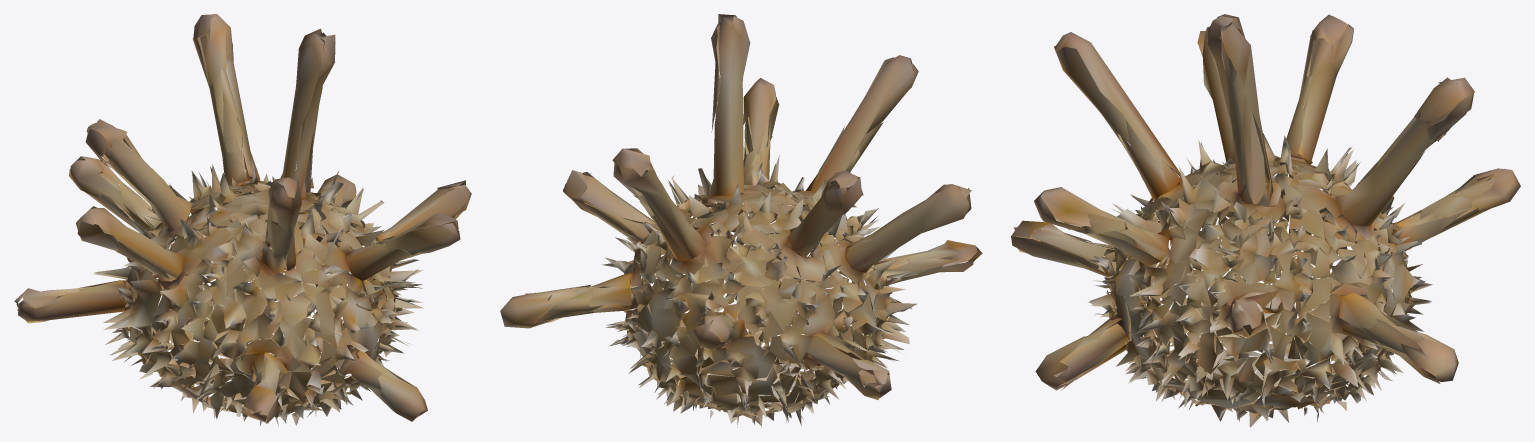
The model's file is triassic-cidaris.glb.
The picture shows the model from 3 angles, left to right: view 1: azimuth 30°, elevation 25°; view 2: azimuth 150°, elevation 25°; view 3: azimuth 270°, elevation 25°; orthographic projection. The views are drawn at different scales.
Visible parts, largest first — view 1: cidaris; view 2: cidaris; view 3: cidaris.
Boxes of the visible parts, <box> form: cidaris: <box>14,14,471,426</box>; cidaris: <box>500,14,982,427</box>; cidaris: <box>1011,14,1520,427</box>.
Bounding box in the file's own units: 0.2999 × 0.2579 × 0.3.
